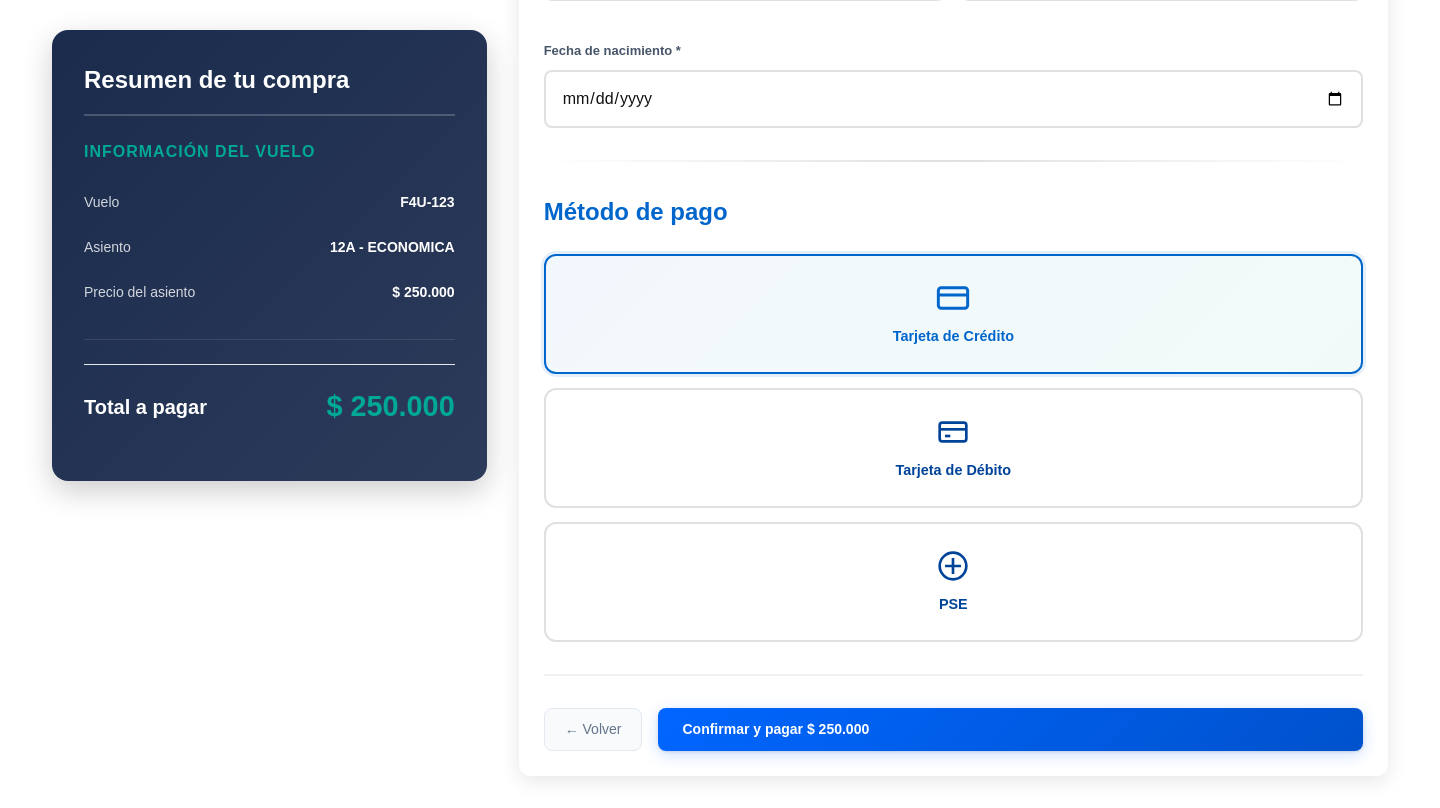
Test: PaymentForm component › shows validation errors when submitting an empty form
(page scrolled)
Click the button "Confirmar y pagar $ 250.000" at point(776, 729), box [658, 708, 1363, 751]
(page scrolled)
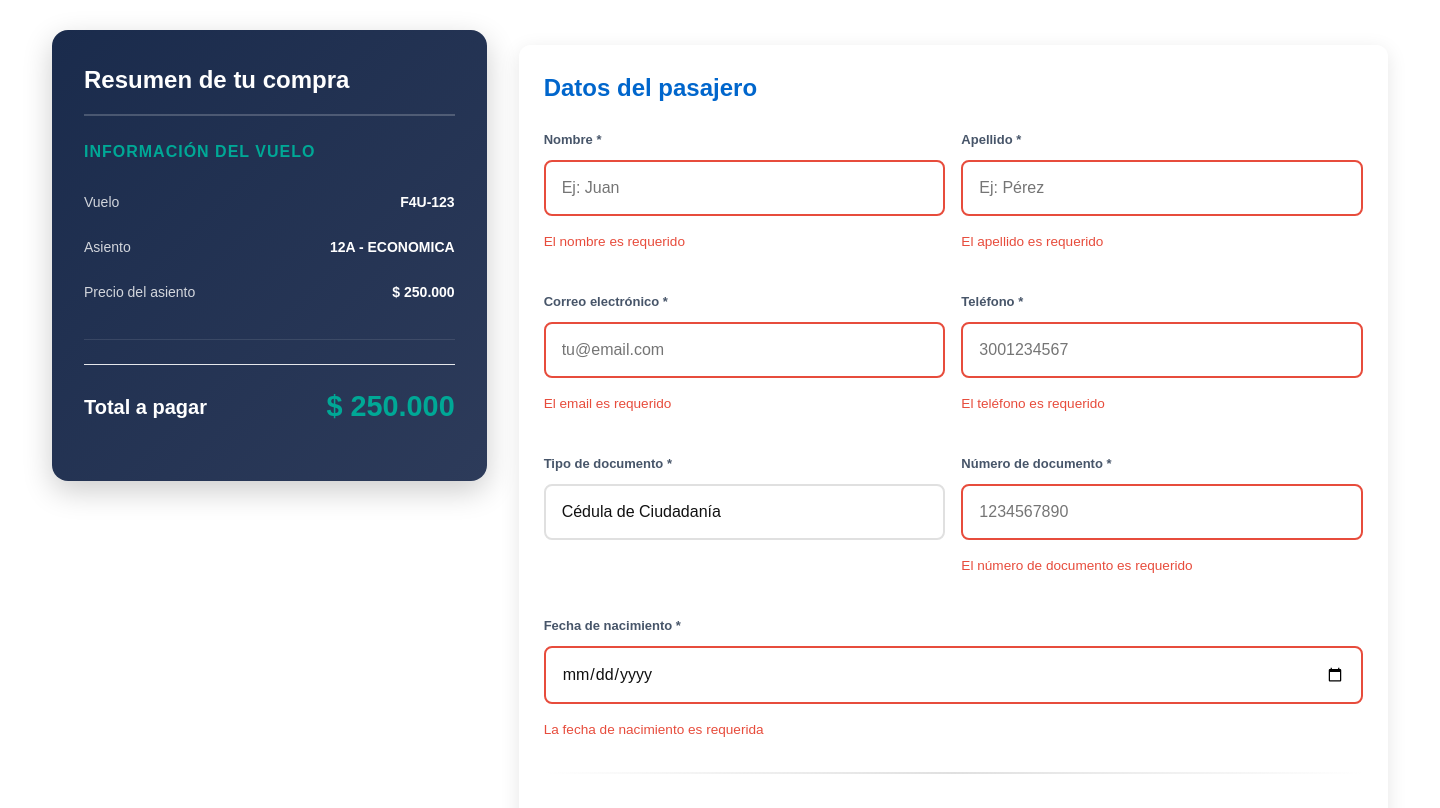
Now the text "El nombre es requerido" is shown, box [544, 234, 685, 249]
Now the text "El apellido es requerido" is shown, box [961, 234, 1103, 249]
Now the text "El email es requerido" is shown, box [544, 396, 671, 411]
